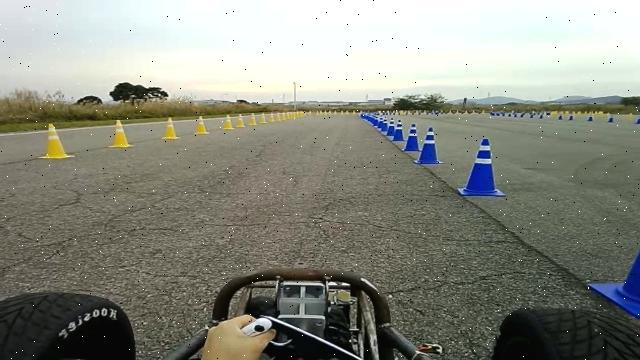blue cone: (589, 246, 640, 319), (457, 138, 507, 197), (414, 127, 444, 164), (402, 123, 422, 152), (392, 119, 405, 141), (385, 118, 396, 136)
yellow cone: (39, 123, 75, 159), (108, 119, 134, 148), (162, 117, 180, 139), (194, 115, 210, 134), (223, 114, 235, 130), (236, 113, 247, 128), (248, 114, 258, 126), (260, 113, 268, 123), (275, 112, 283, 122)
